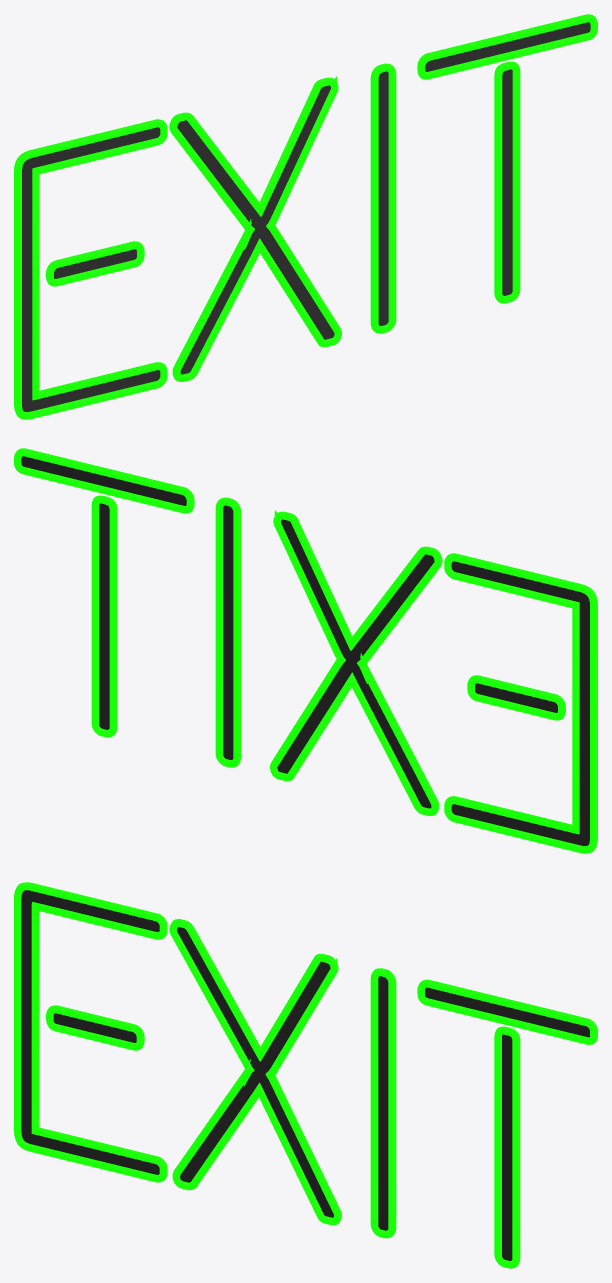
Rendered from ExitSign.fbx.
The picture shows the model from 3 angles, top to bottom: view 1: azimuth 30°, elevation 25°; view 2: azimuth 150°, elevation 25°; view 3: azimuth 330°, elevation 25°; orthographic projection.
Parts seen in each view (by area): view 1: Tubes, BackingText; view 2: Tubes, BackingText; view 3: Tubes, BackingText.
Boxes of the visible parts, left/top/right/bottom form: Tubes: left=14, top=14, right=597, bottom=419; BackingText: left=22, top=22, right=590, bottom=411; Tubes: left=14, top=448, right=597, bottom=853; BackingText: left=21, top=456, right=589, bottom=845; Tubes: left=14, top=882, right=597, bottom=1268; BackingText: left=21, top=890, right=589, bottom=1260.
Size of the model in its own units: 134 by 58.93 by 1.52.
